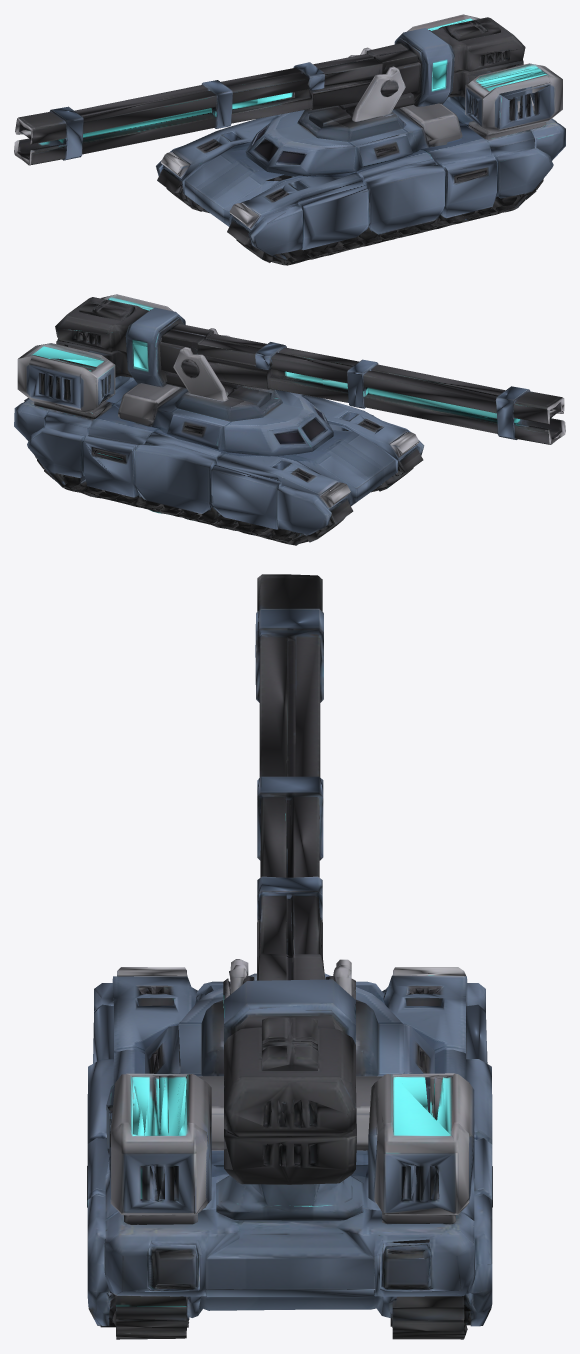
File: tank_assembled.glb
The picture shows the model from 3 angles, top to bottom: view 1: azimuth 30°, elevation 25°; view 2: azimuth 150°, elevation 25°; view 3: azimuth 270°, elevation 25°; orthographic projection. The views are drawn at different scales.
Parts seen in each view (by area): view 1: Body, Gun_Mesh, Turret_Mesh; view 2: Body, Gun_Mesh, Turret_Mesh; view 3: Body, Turret_Mesh, Gun_Mesh.
Boxes of the visible parts, <box> form: Body: <box>156,96,565,265</box>; Gun_Mesh: <box>14,43,417,165</box>; Turret_Mesh: <box>337,14,562,139</box>; Body: <box>14,376,424,545</box>; Gun_Mesh: <box>161,323,565,444</box>; Turret_Mesh: <box>17,294,243,419</box>; Body: <box>87,967,492,1339</box>; Turret_Mesh: <box>106,959,474,1224</box>; Gun_Mesh: <box>255,574,325,980</box>.
Size of the model in its own units: 0.9575 by 0.3003 by 0.3354.
Materials: 1 (1 with a texture image).
